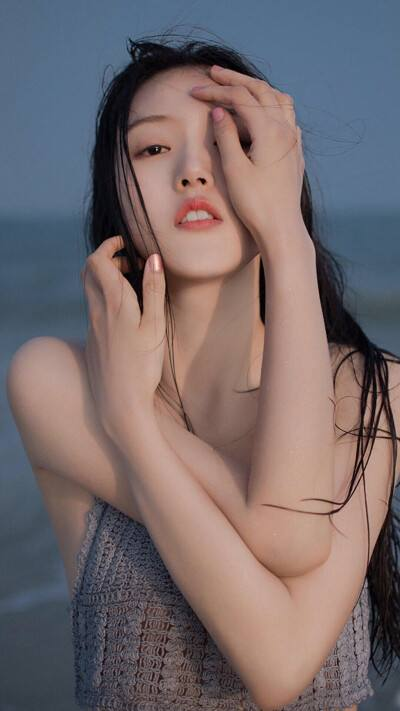person: (88, 28, 310, 295)
